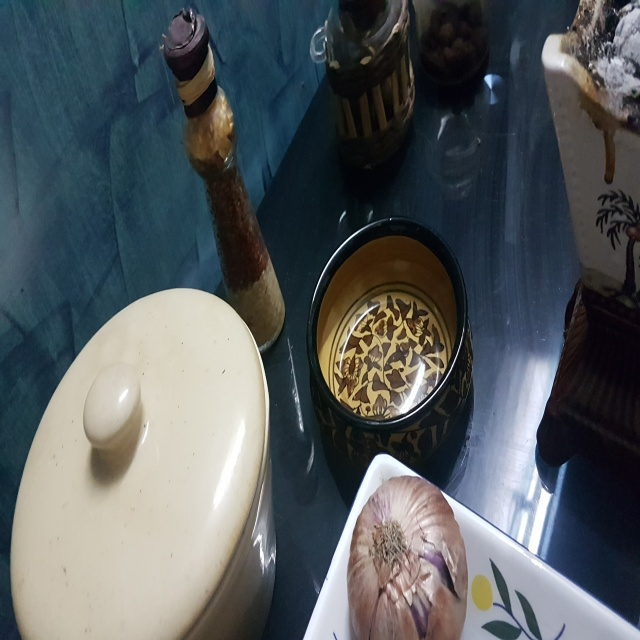onion: (348, 475, 473, 640)
